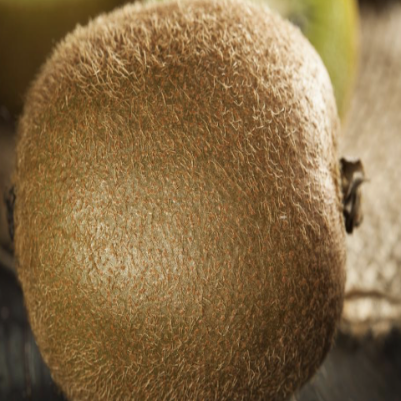kiwi: (2, 3, 383, 401)
